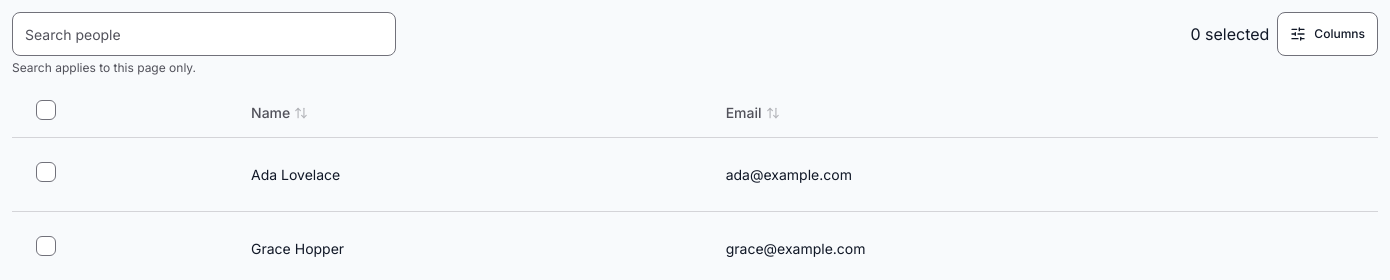
Test case: DataTable › selects filtered rows by stable id and exposes them to toolbar actions
In the search field labelled "Search people": [204, 34] box [12,12,396,56], type "grace"
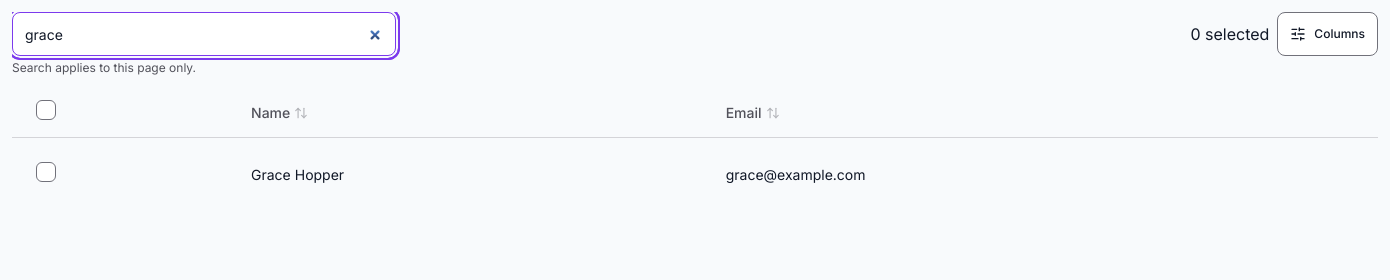
Click the checkbox named "Select all visible rows": [46, 110] box [24,88,68,132]
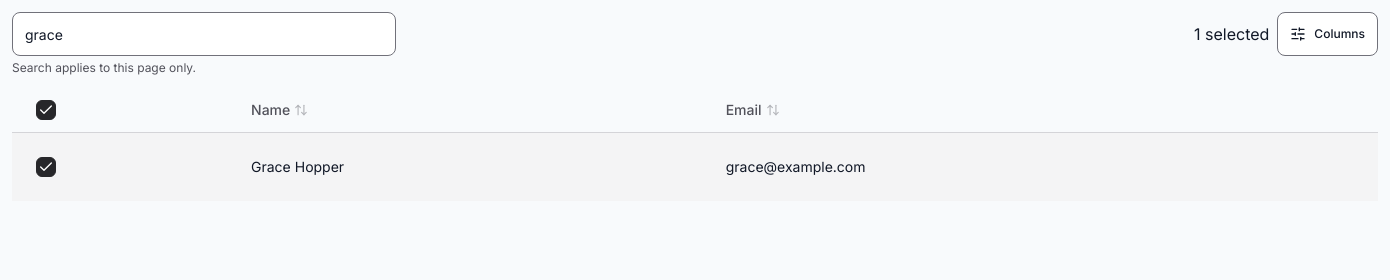
Now the text "1 selected" is shown, box [1194,22,1269,46]
Now the checkbox named "Select row grace" is checked, box [24,145,68,189]
Clear the search field named "Search people": [204, 34] box [12,12,396,56]
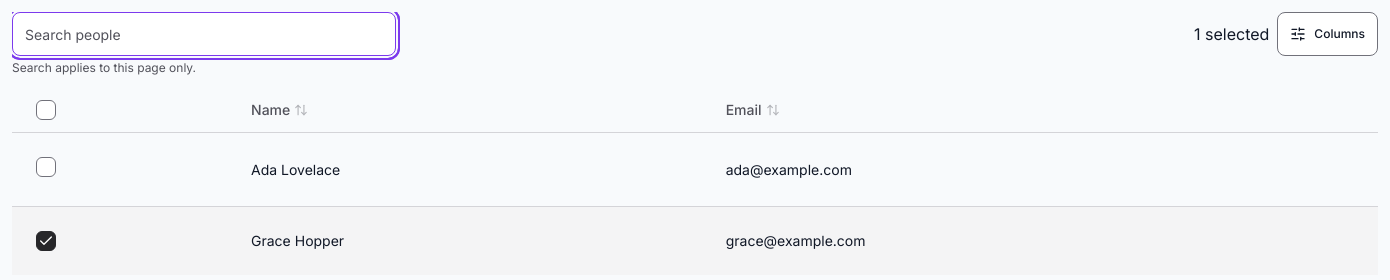
Now the checkbox named "Select row grace" is checked, box [24,219,68,263]
Now the checkbox named "Select row ada" is not checked, box [24,145,68,189]
